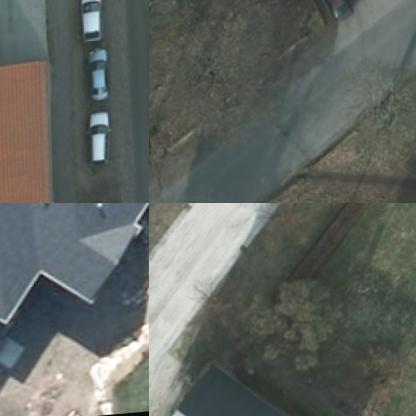car: (86, 117, 116, 176), (79, 0, 108, 53), (86, 57, 114, 110), (314, 0, 358, 32)
